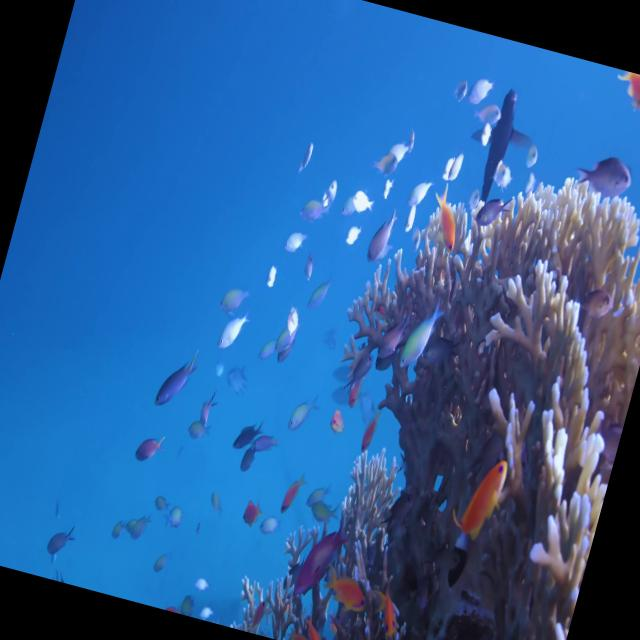fish: (459, 80, 533, 204), (291, 508, 353, 606), (445, 451, 509, 543), (396, 294, 443, 376), (574, 147, 638, 200), (423, 183, 469, 250), (152, 352, 198, 412), (318, 566, 372, 616), (364, 210, 401, 264), (214, 305, 250, 354), (609, 69, 640, 113), (134, 429, 167, 466)
